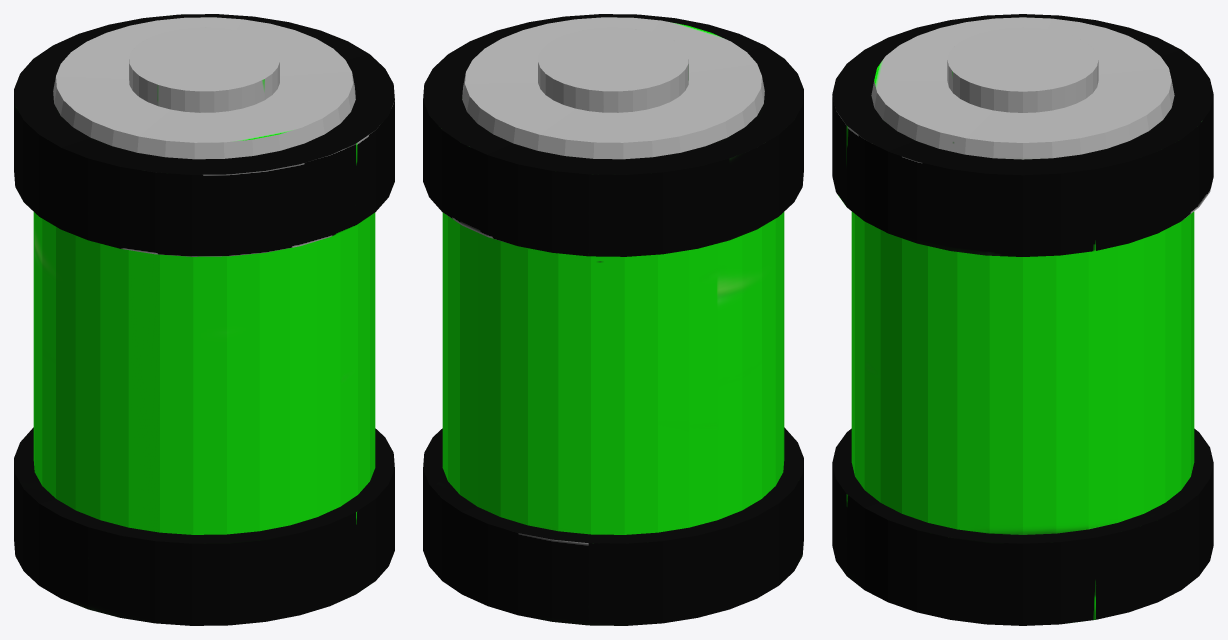
The model's file is food.glb.
3 renders of one model, left to right at view 1: azimuth 30°, elevation 25°; view 2: azimuth 150°, elevation 25°; view 3: azimuth 270°, elevation 25°, orthographic.
Parts seen in each view (by area): view 1: Cylinder; view 2: Cylinder; view 3: Cylinder.
Boxes of the visible parts, <box> form: Cylinder: <box>14,14,394,625</box>; Cylinder: <box>423,14,803,625</box>; Cylinder: <box>832,14,1213,625</box>.
Bounding box in the file's own units: 2 × 2.81 × 2.
1 material, 1 textured.
